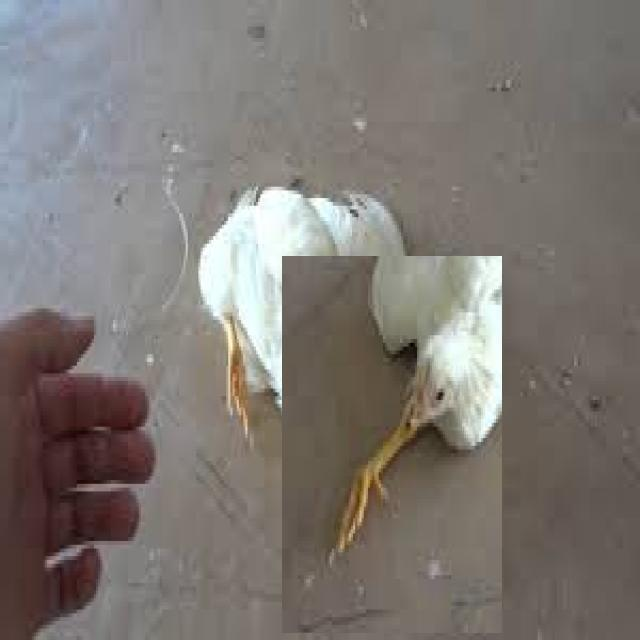AbNormal: (329, 272, 496, 552)
